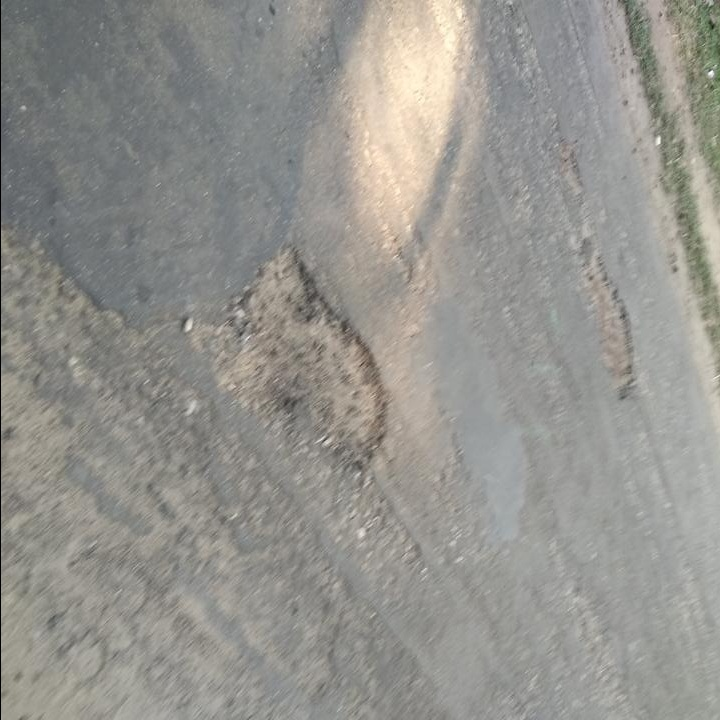pothole: (205, 234, 397, 473), (584, 248, 640, 404)
